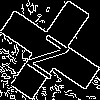Z: (25, 25, 76, 81)
